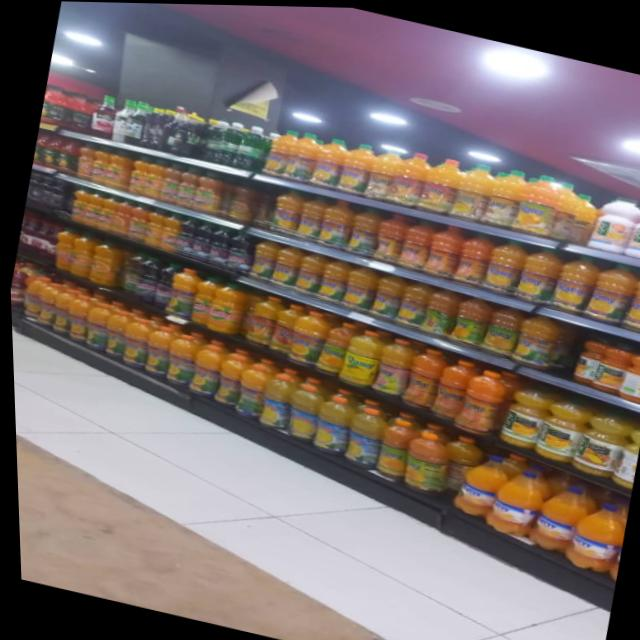ifruit_plastique: (527, 395, 587, 464), (566, 413, 628, 478), (584, 188, 640, 254), (497, 380, 549, 449), (624, 199, 640, 261)
ramy_plastique: (522, 473, 594, 557), (476, 457, 548, 540), (555, 490, 624, 574), (445, 445, 509, 521), (448, 360, 509, 435), (580, 255, 637, 326), (424, 350, 478, 421), (397, 426, 451, 495), (546, 247, 600, 315), (367, 410, 418, 481), (397, 341, 449, 410), (336, 398, 387, 468), (305, 387, 356, 456), (432, 429, 483, 497), (512, 170, 563, 237), (333, 323, 384, 389), (507, 309, 562, 370), (366, 331, 416, 398), (511, 240, 562, 305), (448, 157, 497, 223), (479, 163, 528, 229), (415, 151, 464, 216), (277, 377, 326, 442), (282, 306, 331, 368), (478, 232, 526, 295), (251, 365, 296, 430), (449, 227, 496, 288), (390, 147, 435, 210), (545, 180, 590, 243), (228, 357, 273, 420), (207, 345, 251, 409), (585, 337, 634, 393), (419, 219, 464, 278), (446, 291, 492, 348), (312, 315, 355, 375), (157, 329, 200, 389), (183, 339, 225, 399), (336, 138, 378, 196), (416, 283, 460, 338), (394, 214, 435, 271), (562, 189, 602, 247), (240, 290, 281, 346), (265, 297, 305, 354), (342, 203, 383, 258), (368, 208, 409, 263), (315, 193, 356, 248), (310, 134, 349, 191), (390, 276, 432, 328), (478, 301, 519, 354), (336, 260, 378, 311), (137, 321, 175, 377), (364, 144, 400, 203), (286, 129, 324, 184), (115, 313, 153, 367), (263, 186, 303, 237), (291, 187, 329, 240), (367, 269, 407, 319), (313, 253, 352, 304), (263, 125, 299, 180), (97, 307, 132, 358), (289, 247, 325, 296), (266, 241, 303, 288), (78, 300, 113, 349), (59, 292, 93, 342), (29, 278, 61, 326), (16, 273, 50, 318), (618, 265, 640, 334), (246, 237, 280, 280)
